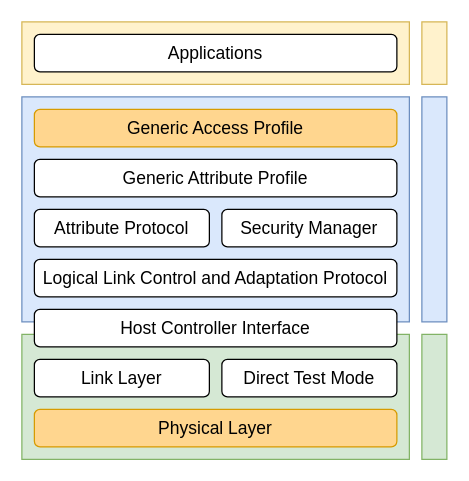
Image size: 469x481. Some labels were removed from this diagram. The shapes that lost their labels are listed below. From the top down, each one's centre as x and y in pixels, then its label:
At point (434, 52): "APPS".
At point (434, 209): "HOST".
At point (434, 396): "CONTROLLER".
